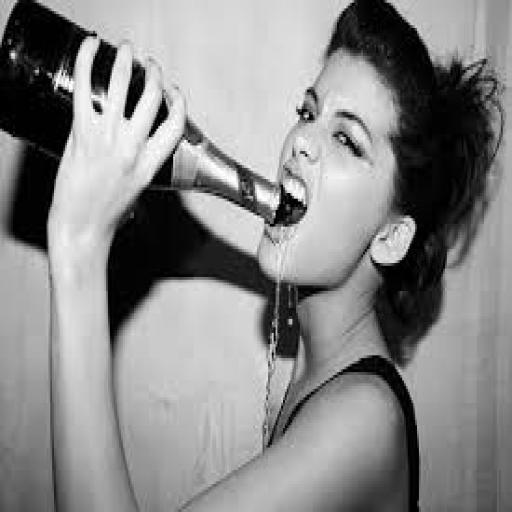drinking: (0, 0, 303, 226)
